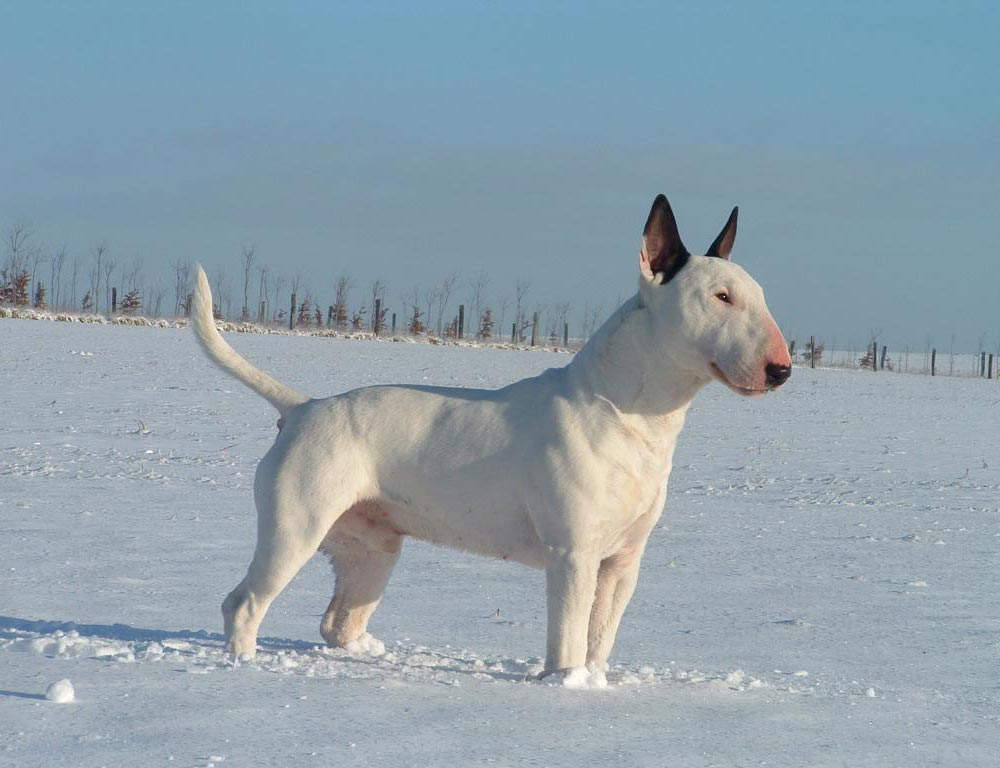bull_terrier: (187, 192, 794, 671)
